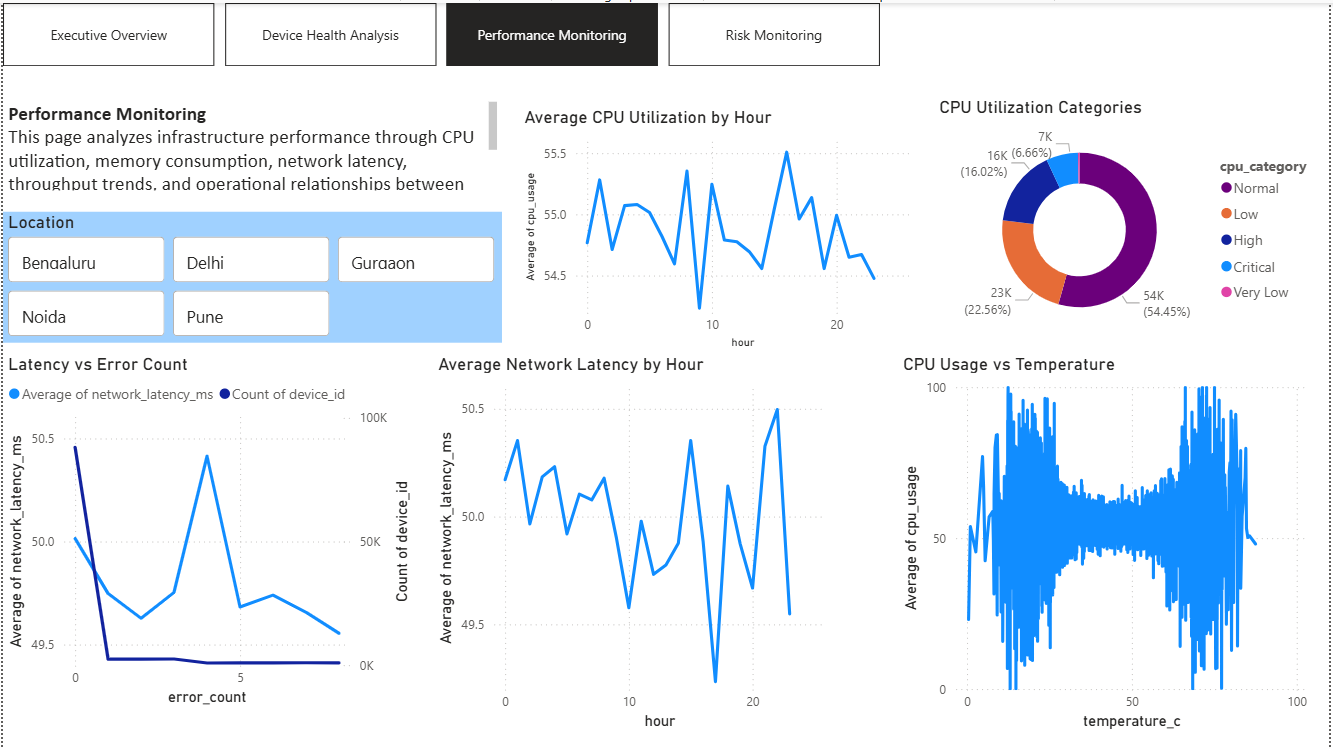

This screenshot's page, from the dashboard's own definition file:
{"tool":"powerbi","page":{"name":"Performance Monitoring","canvas":[1280,720],"ordinal":2},"visuals":[{"type":"lineChart","title":"Average CPU Utilization by Hour","fields":{"Category":["telemetry_clean.hour"],"Y":["Avg(telemetry_clean.cpu_usage)"]},"box":[498.3,100,381.7,238.3],"z":0},{"type":"lineChart","title":"Average Network Latency by Hour","fields":{"Category":["telemetry_clean.hour"],"Y":["Avg(telemetry_clean.network_latency_ms)"]},"box":[415,338.3,383.3,368.3],"z":1000},{"type":"donutChart","title":"CPU Utilization Categories","fields":{"Category":["telemetry_clean.cpu_category"],"Y":["telemetry_clean.Record Count"]},"box":[898.3,90,381.7,238.3],"z":2000},{"type":"lineChart","title":"CPU Usage vs Temperature","fields":{"Y":["telemetry_clean.cpu_usage"],"Category":["telemetry_clean.temperature_c"]},"box":[863.3,338.3,400,368.3],"z":4000},{"type":"lineChart","title":"Latency vs Error Count","fields":{"Category":["telemetry_clean.error_count"],"Y":["Avg(telemetry_clean.network_latency_ms)"],"Y2":["CountNonNull(telemetry_clean.device_id)"]},"box":[0,338.3,398.3,345],"z":5000},{"type":"advancedSlicerVisual","title":"Location","fields":{"Values":["telemetry_clean.location"]},"box":[0,201.7,481.7,126.7],"z":6000},{"type":"textbox","box":[0,90,481.7,95],"z":7000},{"type":"pageNavigator","box":[0,0,848.3,61.7],"z":7001}]}

Visuals, with their boxes in screenshot pixels (x1, y1, x2, y2), scaled from the page's 1280x720 canvas onto the 1333x748 screenshot:
"Average CPU Utilization by Hour" lineChart: 519, 104, 916, 351
"Average Network Latency by Hour" lineChart: 432, 351, 831, 734
"CPU Utilization Categories" donutChart: 935, 94, 1332, 341
"CPU Usage vs Temperature" lineChart: 899, 351, 1316, 734
"Latency vs Error Count" lineChart: 0, 351, 415, 710
"Location" advancedSlicerVisual: 0, 210, 502, 341
textbox: 0, 94, 502, 192
pageNavigator: 0, 0, 883, 64
